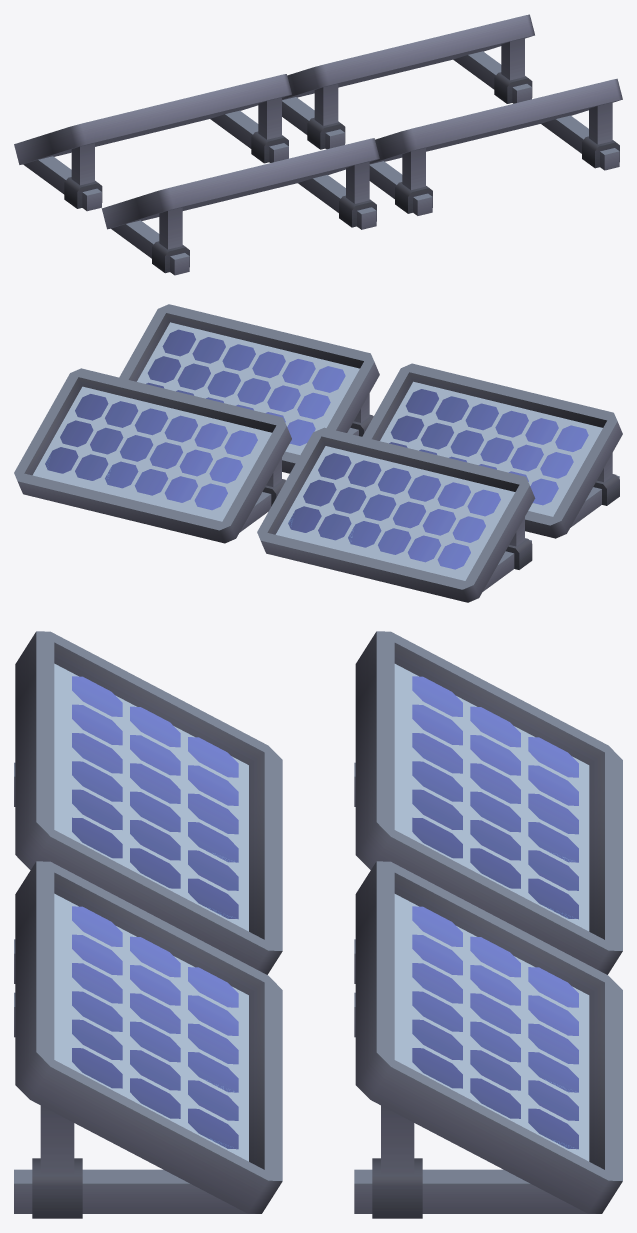
Rendered from k-city-kit-industrial-solar-panel-landscape-group.glb.
3 renders of one model, top to bottom at view 1: azimuth 30°, elevation 25°; view 2: azimuth 150°, elevation 25°; view 3: azimuth 270°, elevation 25°, orthographic. The views are drawn at different scales.
Visible parts, largest first — view 1: solar-panel-landscape-group; view 2: solar-panel-landscape-group; view 3: solar-panel-landscape-group.
Boxes of the visible parts, bbox=[...] form: solar-panel-landscape-group: bbox=[14, 14, 622, 275]; solar-panel-landscape-group: bbox=[14, 304, 622, 602]; solar-panel-landscape-group: bbox=[14, 631, 622, 1218].
Bounding box in the file's own units: 1.51 × 0.2623 × 0.895.
1 material, 1 textured.
